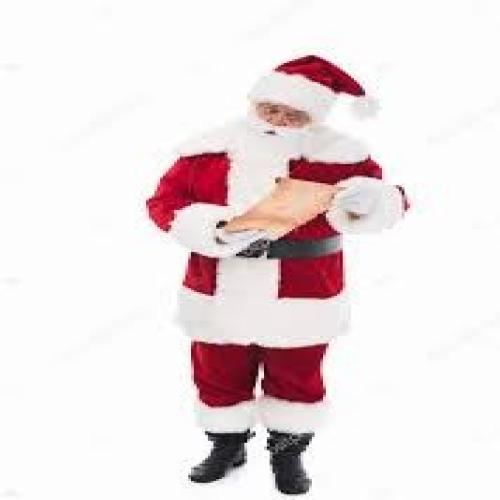Santa: (145, 55, 412, 495)
